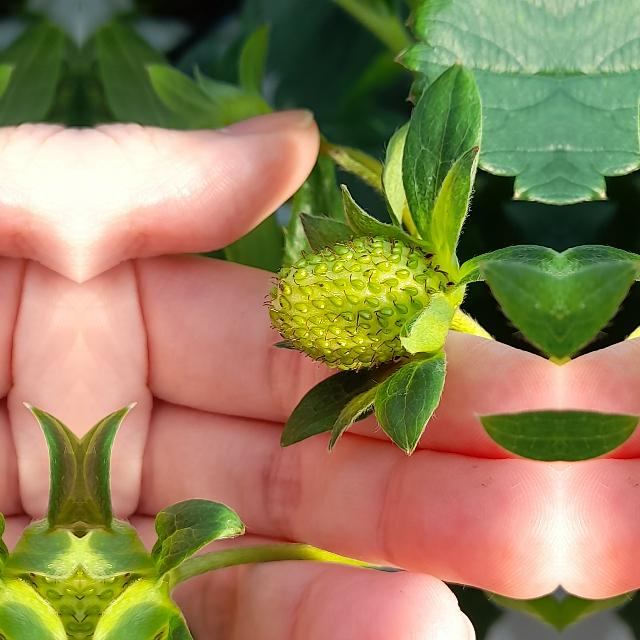Health_25: (261, 231, 447, 373)
